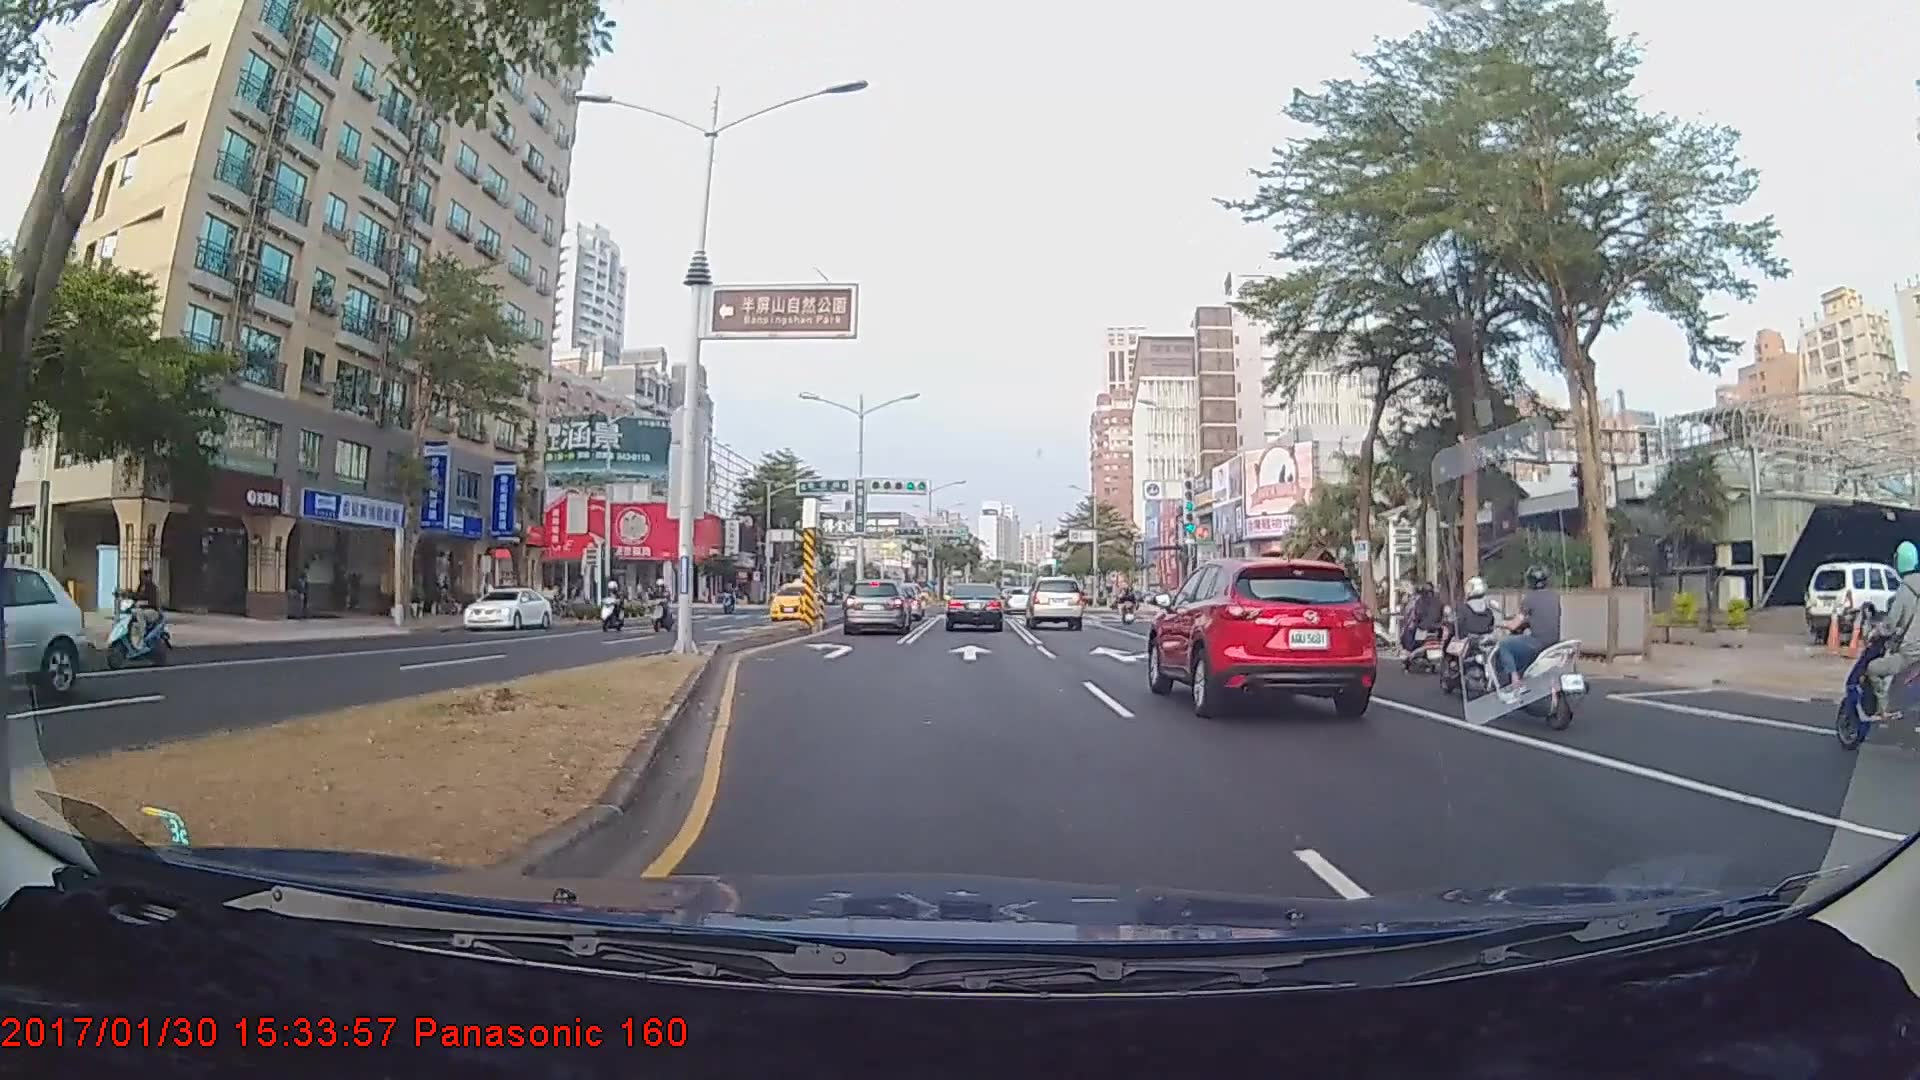rider: (1487, 566, 1598, 730), (1434, 569, 1510, 693), (106, 560, 176, 672), (1392, 576, 1452, 673), (593, 576, 631, 640), (645, 578, 679, 636)
vehicle: (1152, 555, 1376, 714), (0, 568, 85, 695), (1802, 563, 1913, 641), (463, 585, 553, 633), (841, 579, 914, 636), (1025, 576, 1085, 631), (944, 582, 1004, 633), (768, 583, 823, 620)
